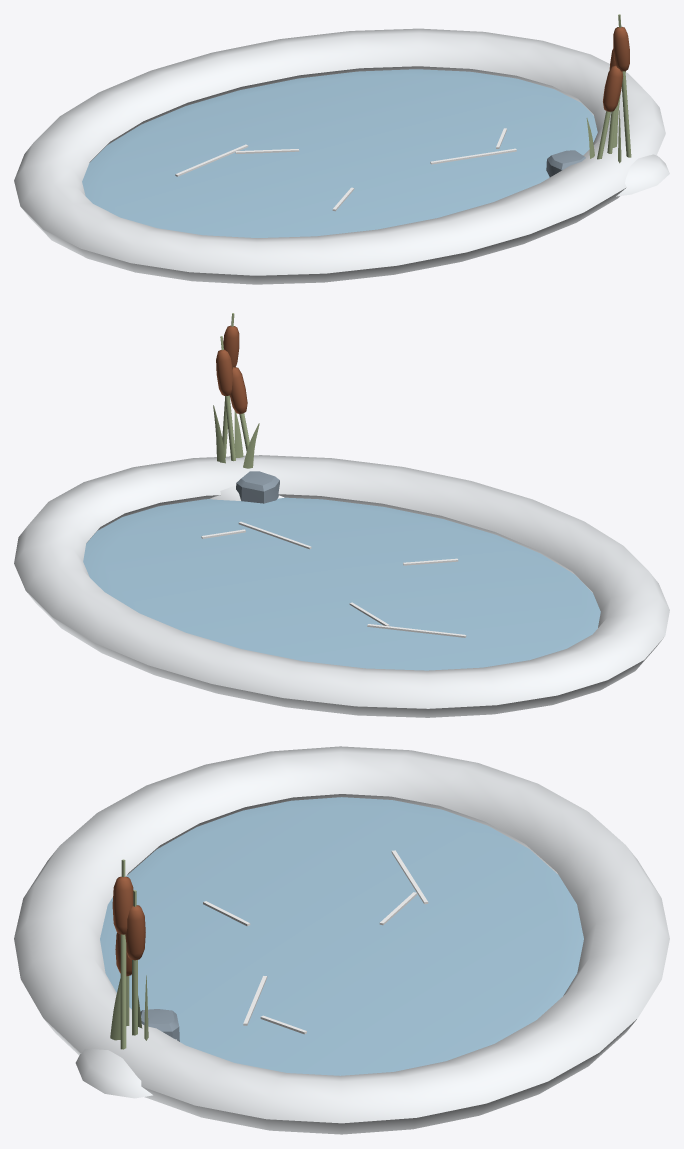
File: FrozenPond.obj
The picture shows the model from 3 angles, top to bottom: view 1: azimuth 30°, elevation 25°; view 2: azimuth 150°, elevation 25°; view 3: azimuth 270°, elevation 25°; orthographic projection. The views are drawn at different scales.
Parts seen in each view (by area): view 1: FrozenPond; view 2: FrozenPond; view 3: FrozenPond.
Part boxes in pixels (x1,y1,x2,y2): FrozenPond: (14, 14, 669, 284); FrozenPond: (14, 313, 669, 717); FrozenPond: (14, 746, 669, 1134).
Bounding box in the file's own units: 15.11 × 4.29 × 11.45.
Materials: 1 (1 with a texture image).
